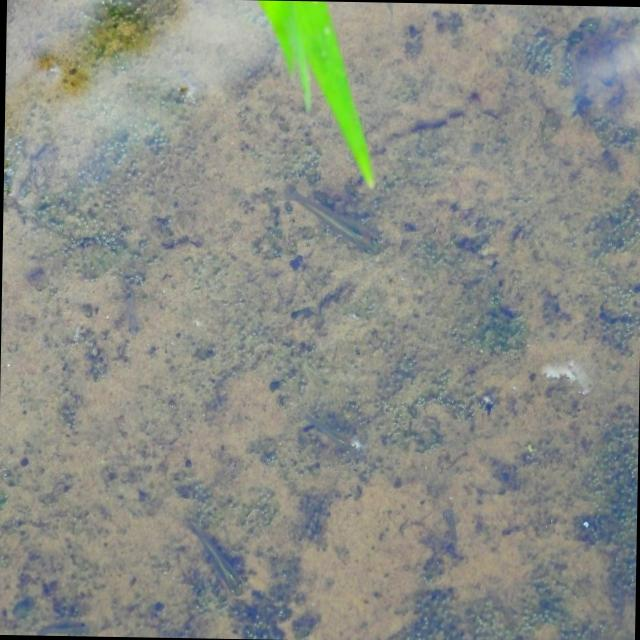Sivrisinek Baligi: (286, 183, 382, 256), (187, 518, 246, 604), (303, 414, 360, 458), (120, 289, 140, 343)
